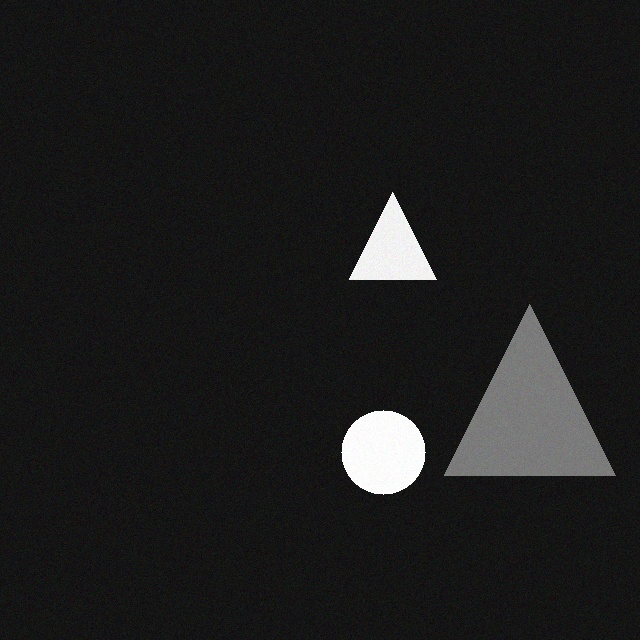circle: (332, 397, 416, 481)
triangle: (435, 291, 606, 462), (340, 179, 427, 266)
